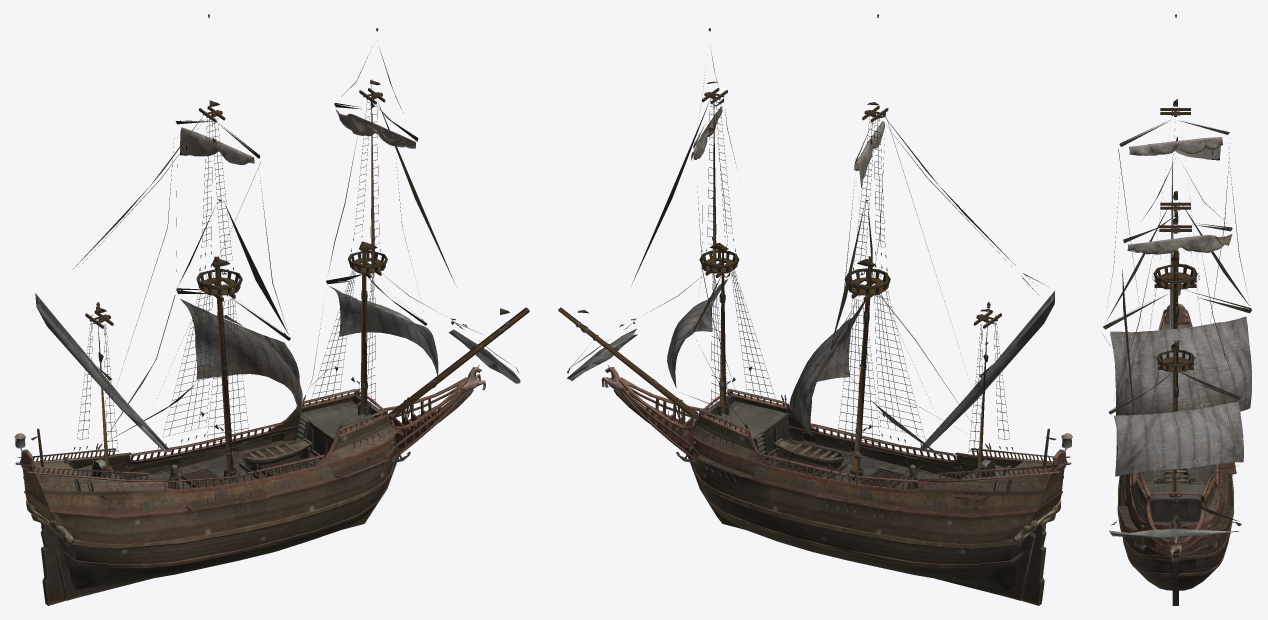
Rendered from ship.glb.
The picture shows the model from 3 angles, left to right: view 1: azimuth 30°, elevation 25°; view 2: azimuth 150°, elevation 25°; view 3: azimuth 270°, elevation 25°; orthographic projection. The views are drawn at different scales.
Visible parts, largest first — view 1: dutch_ship_medium_hull, dutch_ship_medium_rigging, dutch_ship_medium_sails; view 2: dutch_ship_medium_hull, dutch_ship_medium_rigging, dutch_ship_medium_sails; view 3: dutch_ship_medium_sails, dutch_ship_medium_hull, dutch_ship_medium_rigging.
Part boxes in pixels (x1,y1,x2,y2): dutch_ship_medium_hull: (14,365,485,605); dutch_ship_medium_rigging: (31,14,529,518); dutch_ship_medium_sails: (180,109,438,421); dutch_ship_medium_hull: (601,365,1072,605); dutch_ship_medium_rigging: (558,14,1056,519); dutch_ship_medium_sails: (667,106,884,436); dutch_ship_medium_sails: (1110,137,1251,476); dutch_ship_medium_hull: (1115,283,1236,605); dutch_ship_medium_rigging: (1103,14,1251,550).
Bounding box in the file's own units: 24.05 × 24.66 × 6.49.
3 materials, 3 textured.
